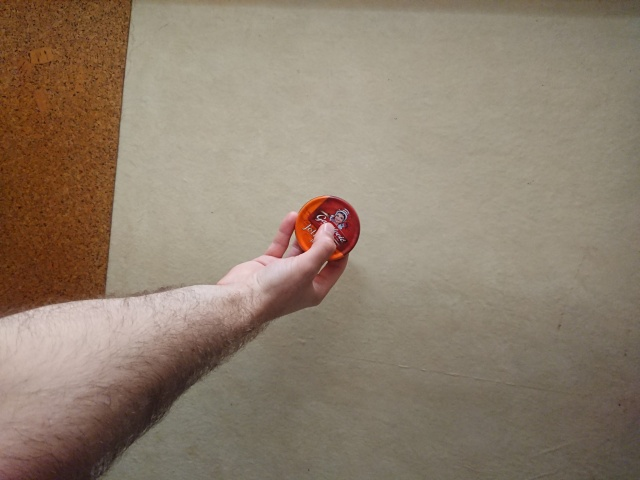Gavrilovic Pork Liver Pate 100g: (293, 193, 362, 263)
